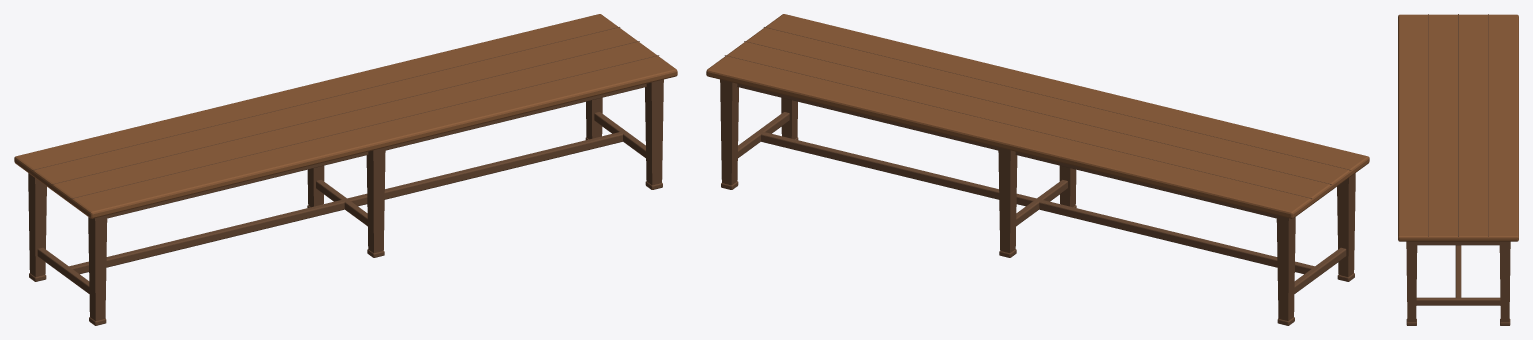
The model's file is tableBanquet8.glb.
3 renders of one model, left to right at view 1: azimuth 30°, elevation 25°; view 2: azimuth 150°, elevation 25°; view 3: azimuth 270°, elevation 25°, orthographic. The views are drawn at different scales.
Visible parts, largest first — view 1: tableBanquet8; view 2: tableBanquet8; view 3: tableBanquet8.
Part boxes in pixels (<box>): tableBanquet8: <box>14,14,677,325</box>; tableBanquet8: <box>706,14,1369,325</box>; tableBanquet8: <box>1398,14,1518,325</box>.
Size of the model in its own units: 3.84 by 0.7505 by 0.88.
